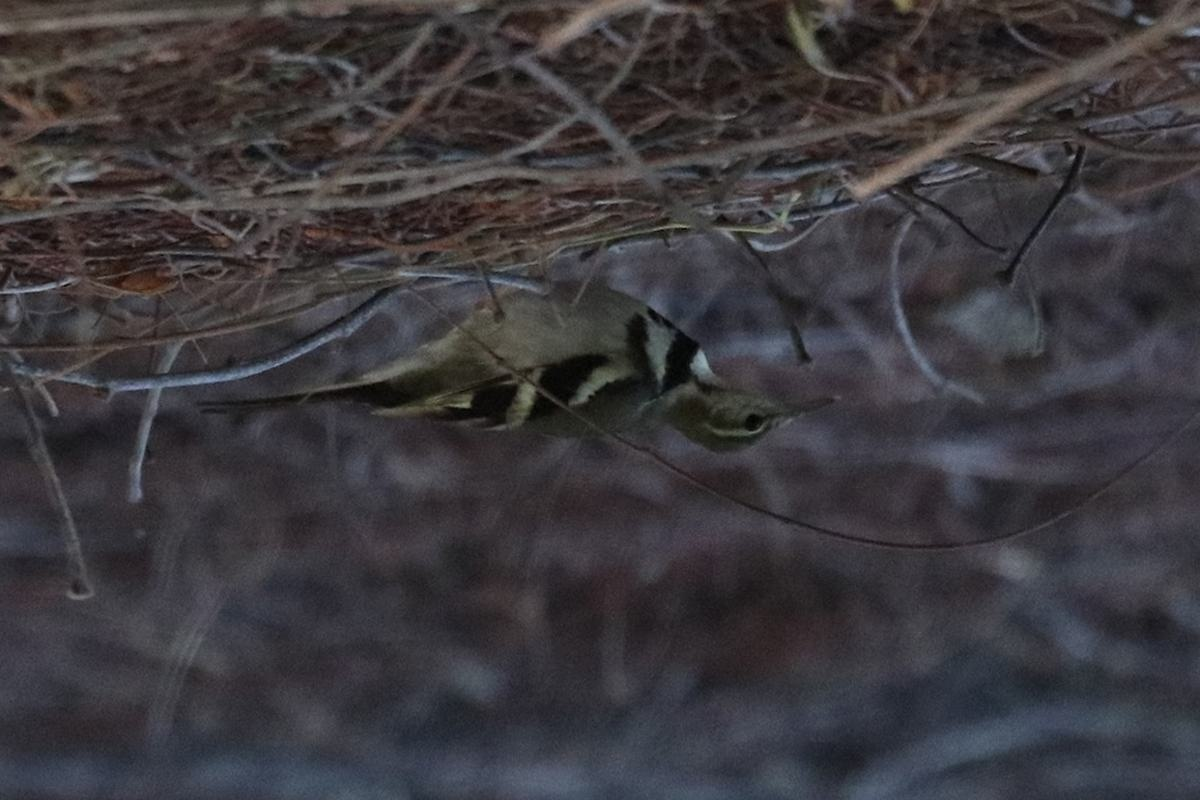wagtail: (290, 252, 845, 471)
